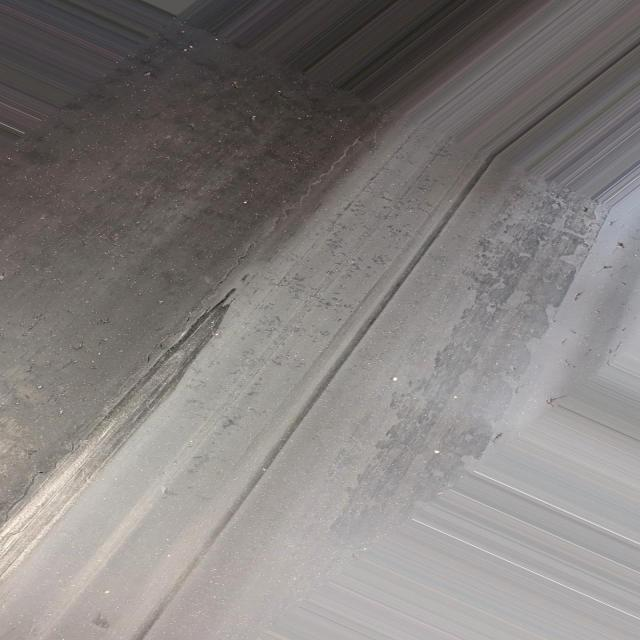Wear: (0, 273, 247, 579)
